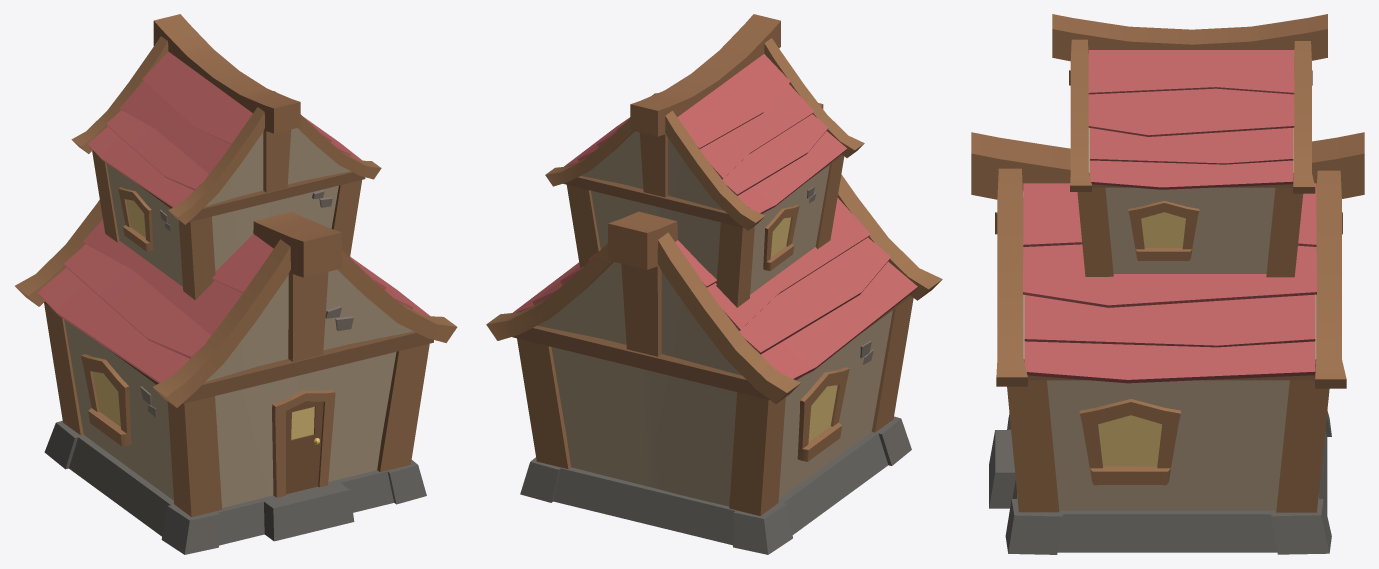
Rendered from Maizon2.fbx.
The picture shows the model from 3 angles, left to right: view 1: azimuth 30°, elevation 25°; view 2: azimuth 150°, elevation 25°; view 3: azimuth 270°, elevation 25°; orthographic projection. The views are drawn at different scales.
Visible parts, largest first — view 1: pasted__Corps_maizon (×2), pasted__pasted__pasted__pCube23, pasted__pasted__Tuile2_d (×2), pasted__pCube24 (×2), pasted__pasted__Tuile1_d (×2), pasted__pCube30 (×2), pasted__pCube23 (×2), pasted__pasted__Tuile3_d (×2), pasted__pCube27 (×2), pasted__pasted__Tuile4_d (×2), pasted__pCube22 (×2), pasted__pCube36 (×2) (+8 smaller); view 2: pasted__Corps_maizon (×2), pasted__pasted__pasted__pCube23, pasted__pasted__Tuile2_d (×2), pasted__pasted__Tuile1_d (×2), pasted__pCube29 (×2), pasted__pCube24 (×2), pasted__pCube21 (×2), pasted__pasted__Tuile3_d (×2), pasted__pCube27 (×2), pasted__pCube19 (×2), pasted__pCube33 (×2), pasted__pasted__Tuile4_d (+5 smaller); view 3: pasted__Corps_maizon (×2), pasted__pasted__Tuile2_g (×2), pasted__pasted__Tuile3_g (×2), pasted__pasted__pasted__pCube23, pasted__pasted__Tuile1_g (×2), pasted__pCube24 (×2), pasted__pasted__Tuile4_g (×2), pasted__pCube28 (×2), pasted__pCube25 (×2), pasted__pCube19 (×2), pasted__pCube22 (×2), pasted__pCube40 (×2) (+2 smaller).
Part boxes in pixels (left/top/right/bottom): pasted__Corps_maizon (×2): left=64, top=128, right=413, bottom=507; pasted__pasted__pasted__pCube23: left=44, top=420, right=426, bottom=554; pasted__pasted__Tuile2_d (×2): left=64, top=110, right=210, bottom=358; pasted__pCube24 (×2): left=153, top=14, right=341, bottom=277; pasted__pasted__Tuile1_d (×2): left=38, top=127, right=194, bottom=383; pasted__pCube30 (×2): left=153, top=107, right=290, bottom=407; pasted__pCube23 (×2): left=167, top=216, right=222, bottom=517; pasted__pasted__Tuile3_d (×2): left=83, top=80, right=242, bottom=335; pasted__pCube27 (×2): left=44, top=151, right=433, bottom=403; pasted__pasted__Tuile4_d (×2): left=142, top=51, right=273, bottom=293; pasted__pCube22 (×2): left=331, top=180, right=429, bottom=471; pasted__pCube36 (×2): left=263, top=129, right=328, bottom=361; pasted__Corps_maizon (×2): left=537, top=131, right=892, bottom=506; pasted__pasted__pasted__pCube23: left=520, top=416, right=911, bottom=554; pasted__pasted__Tuile2_d (×2): left=722, top=114, right=890, bottom=354; pasted__pasted__Tuile1_d (×2): left=737, top=131, right=917, bottom=379; pasted__pCube29 (×2): left=657, top=110, right=800, bottom=403; pasted__pCube24 (×2): left=608, top=14, right=823, bottom=269; pasted__pCube21 (×2): left=716, top=222, right=785, bottom=515; pasted__pasted__Tuile3_d (×2): left=700, top=84, right=870, bottom=330; pasted__pCube27 (×2): left=512, top=154, right=911, bottom=399; pasted__pCube19 (×2): left=517, top=185, right=600, bottom=468; pasted__pCube33 (×2): left=621, top=132, right=667, bottom=356; pasted__pasted__Tuile4_d: left=677, top=54, right=790, bottom=148; pasted__Corps_maizon (×2): left=1023, top=127, right=1316, bottom=510; pasted__pasted__Tuile2_g (×2): left=1024, top=128, right=1315, bottom=347; pasted__pasted__Tuile3_g (×2): left=1023, top=88, right=1316, bottom=307; pasted__pasted__pasted__pCube23: left=989, top=410, right=1331, bottom=554; pasted__pasted__Tuile1_g (×2): left=1024, top=160, right=1315, bottom=383; pasted__pCube24 (×2): left=971, top=14, right=1364, bottom=199; pasted__pasted__Tuile4_g (×2): left=1023, top=50, right=1316, bottom=246; pasted__pCube28 (×2): left=996, top=39, right=1091, bottom=386; pasted__pCube25 (×2): left=1293, top=41, right=1346, bottom=388; pasted__pCube19 (×2): left=1266, top=187, right=1329, bottom=512; pasted__pCube22 (×2): left=1007, top=187, right=1113, bottom=512; pasted__pCube40 (×2): left=1079, top=200, right=1199, bottom=485.
Size of the model in its own units: 47.9 by 63.81 by 48.82.
